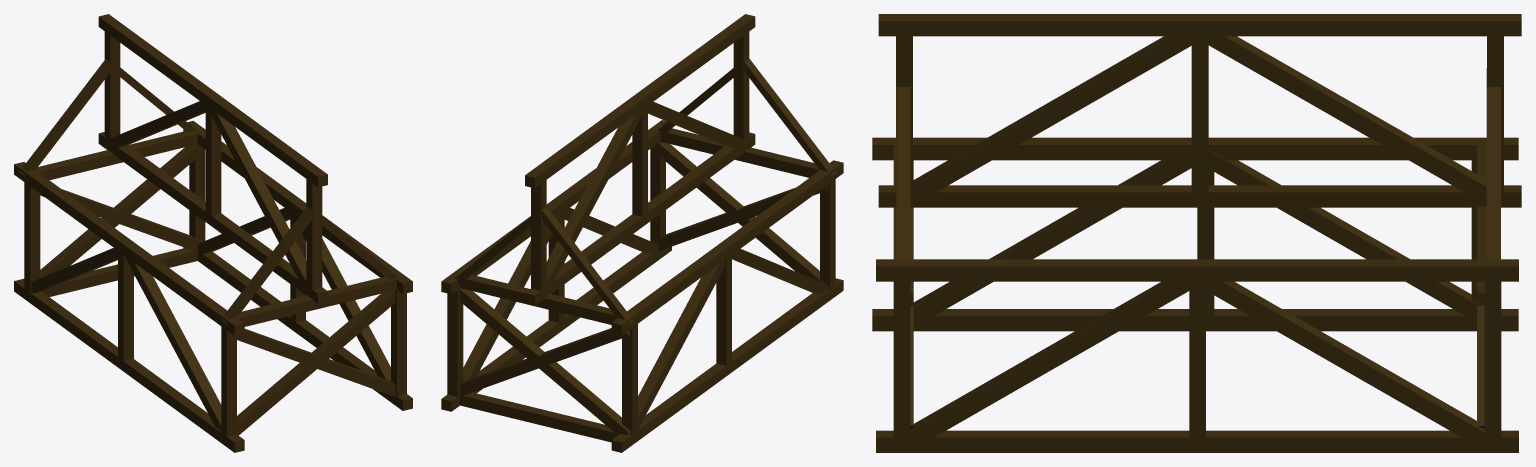
The model's file is krovna konstrukcija.FBX.
The picture shows the model from 3 angles, left to right: view 1: azimuth 30°, elevation 25°; view 2: azimuth 150°, elevation 25°; view 3: azimuth 270°, elevation 25°; orthographic projection. The views are drawn at different scales.
Visible parts, largest first — view 1: Object029; view 2: Object029; view 3: Object029.
Boxes of the visible parts, x1=… form: Object029: x1=14, y1=14, x2=412, y2=452; Object029: x1=441, y1=14, x2=843, y2=452; Object029: x1=872, y1=14, x2=1521, y2=452.
Bounding box in the file's own units: 180 × 243 × 384.
